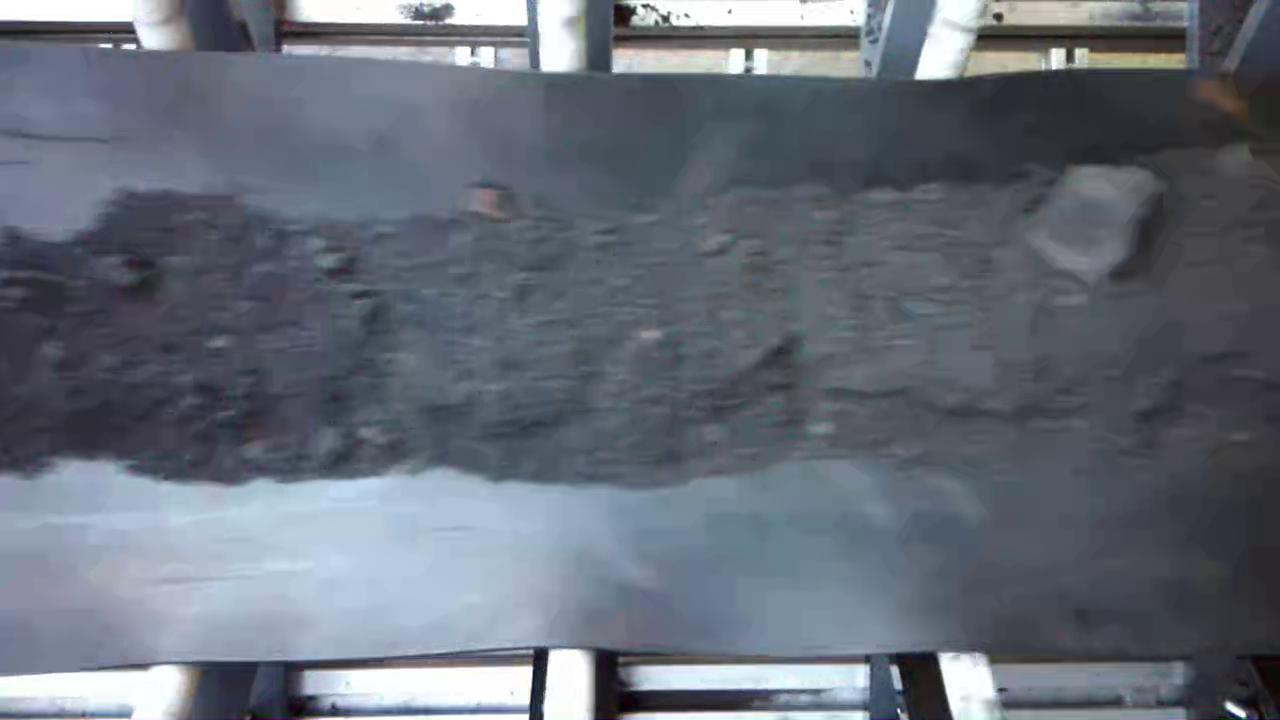conveyor: (9, 84, 1276, 641)
